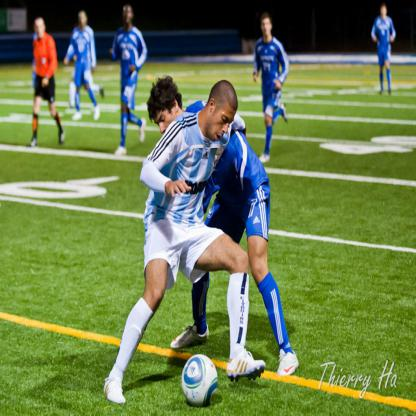face: (211, 104, 238, 143), (153, 107, 177, 140), (35, 20, 45, 39), (124, 6, 132, 24), (263, 20, 271, 37), (79, 14, 87, 27), (382, 6, 387, 17)
